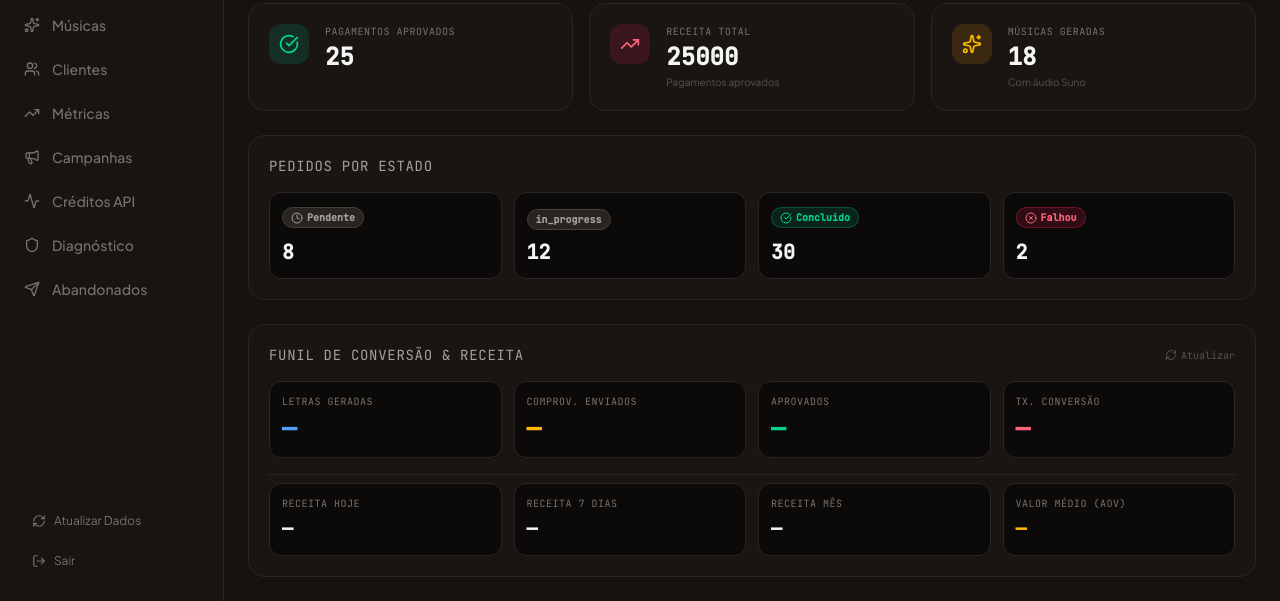
AdminPanel › Logout › logs out and clears session storage
(page scrolled)
Click the button "Sair". click: (112, 561)
box: [20,545,203,577]
(page scrolled)
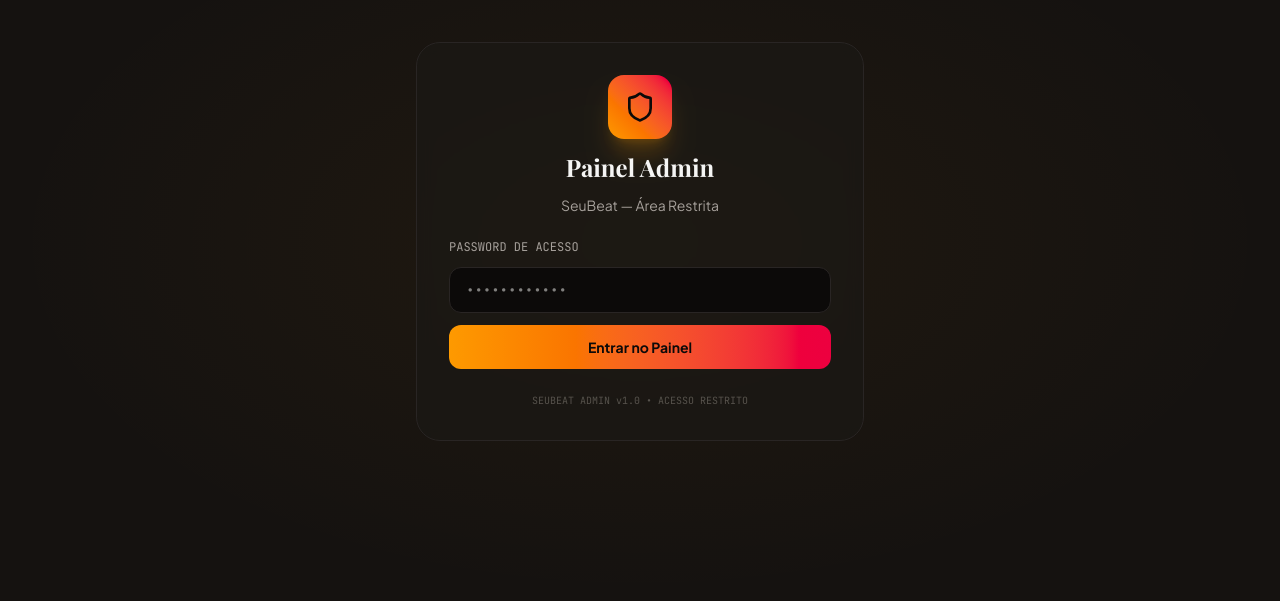
Expected: the heading "Painel Admin" is shown, [566,150,714,182]
